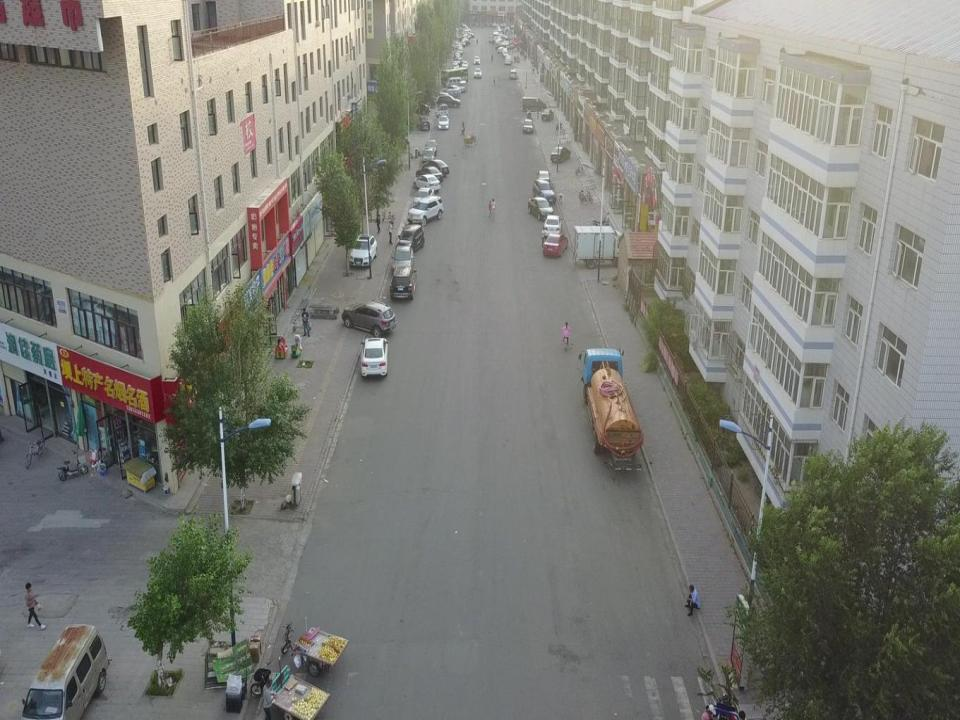bus: (440, 67, 468, 87)
car: (341, 299, 397, 337), (360, 337, 390, 377), (407, 195, 444, 226), (350, 233, 378, 268), (390, 266, 416, 300), (396, 224, 424, 253), (391, 244, 414, 276), (527, 197, 554, 222), (532, 179, 557, 204), (543, 233, 568, 257), (412, 173, 441, 193), (416, 166, 444, 185), (422, 159, 450, 178), (412, 187, 434, 210), (543, 214, 562, 239), (550, 146, 571, 163), (420, 148, 436, 166), (438, 95, 461, 107), (410, 102, 431, 115), (536, 170, 550, 188), (424, 139, 438, 156), (416, 115, 430, 131), (430, 92, 450, 103), (442, 85, 462, 95), (437, 115, 450, 130), (522, 118, 534, 133), (542, 109, 554, 121), (452, 58, 462, 67), (454, 57, 464, 66), (509, 70, 517, 80), (474, 68, 482, 78), (461, 60, 469, 70), (449, 63, 459, 71), (453, 52, 461, 61), (497, 46, 505, 54), (473, 56, 480, 64), (504, 57, 511, 64), (496, 45, 504, 51), (505, 55, 511, 62), (503, 51, 508, 58), (502, 49, 507, 56)
truck: (578, 346, 644, 470), (571, 225, 633, 269)
van: (17, 624, 112, 720), (522, 97, 547, 111), (444, 77, 462, 90), (442, 90, 460, 102), (458, 80, 467, 93), (489, 35, 494, 43)
